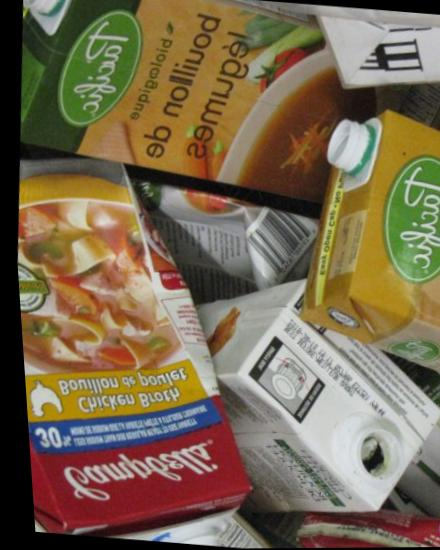cardboard: (18, 157, 254, 543), (198, 280, 438, 544), (21, 0, 336, 200), (300, 85, 439, 402), (127, 166, 316, 303)
